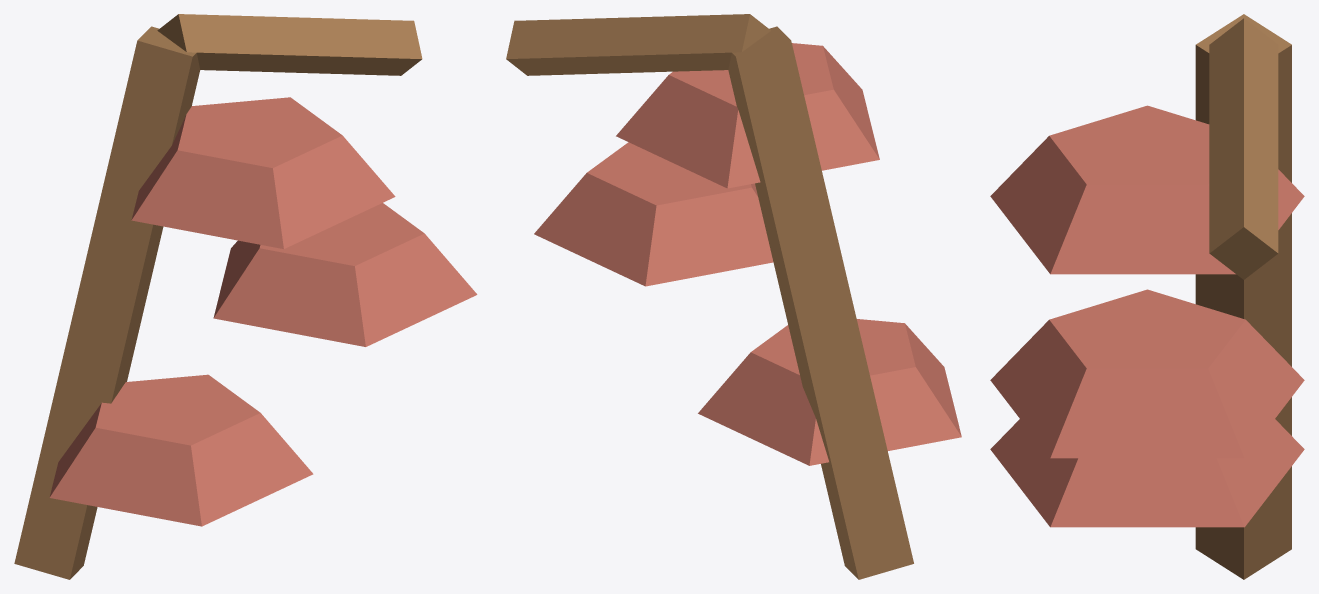
Rendered from Forest_Accent.fbx.
3 renders of one model, left to right at view 1: azimuth 30°, elevation 25°; view 2: azimuth 150°, elevation 25°; view 3: azimuth 270°, elevation 25°, orthographic. The views are drawn at different scales.
Visible parts, largest first — view 1: Forest_Accent; view 2: Forest_Accent; view 3: Forest_Accent.
Part boxes in pixels (<box>): Forest_Accent: <box>14,14,477,579</box>; Forest_Accent: <box>506,14,961,579</box>; Forest_Accent: <box>990,14,1304,579</box>.
Bounding box in the file's own units: 39.63 × 49.3 × 22.83.
